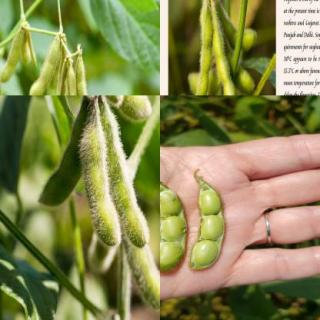soya: (101, 117, 149, 248), (78, 126, 120, 247), (190, 180, 226, 269), (39, 134, 80, 208), (160, 173, 187, 272), (210, 7, 237, 95), (126, 249, 160, 316), (214, 0, 257, 52), (189, 5, 213, 94), (28, 37, 61, 95), (226, 47, 256, 94), (108, 95, 154, 123), (0, 34, 22, 83), (188, 73, 222, 95), (75, 56, 91, 95), (58, 64, 67, 95), (67, 70, 78, 95), (48, 73, 58, 95)
